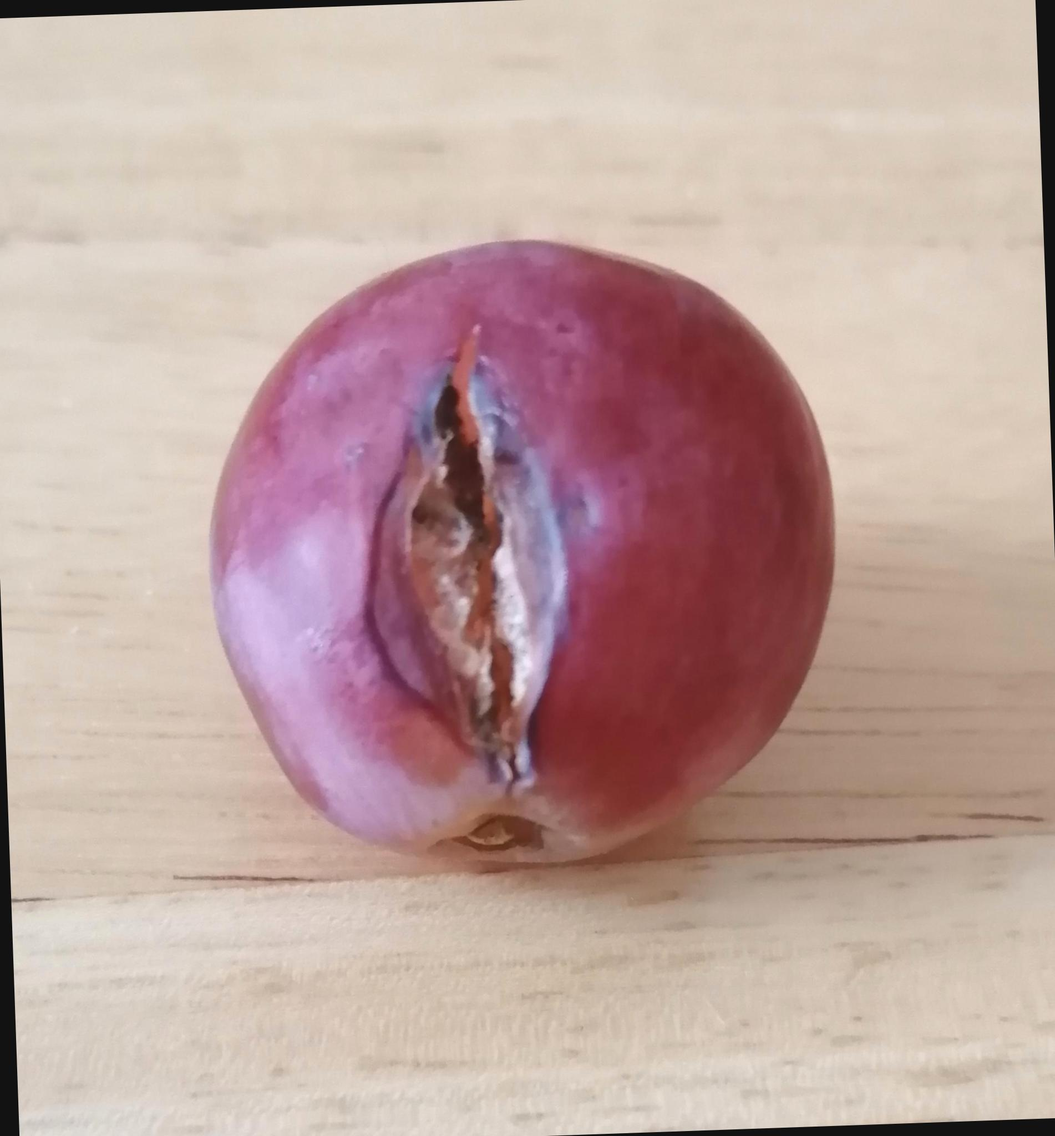Grape Rotten: (196, 226, 849, 876)
